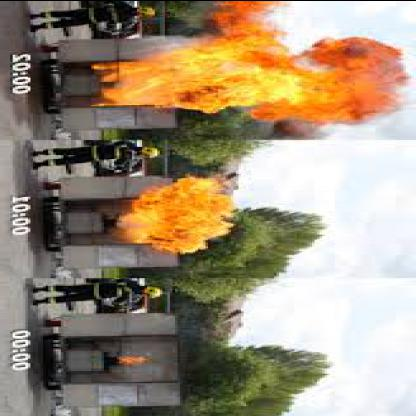Fire: (121, 48, 401, 120), (138, 179, 234, 254), (116, 352, 148, 365)
